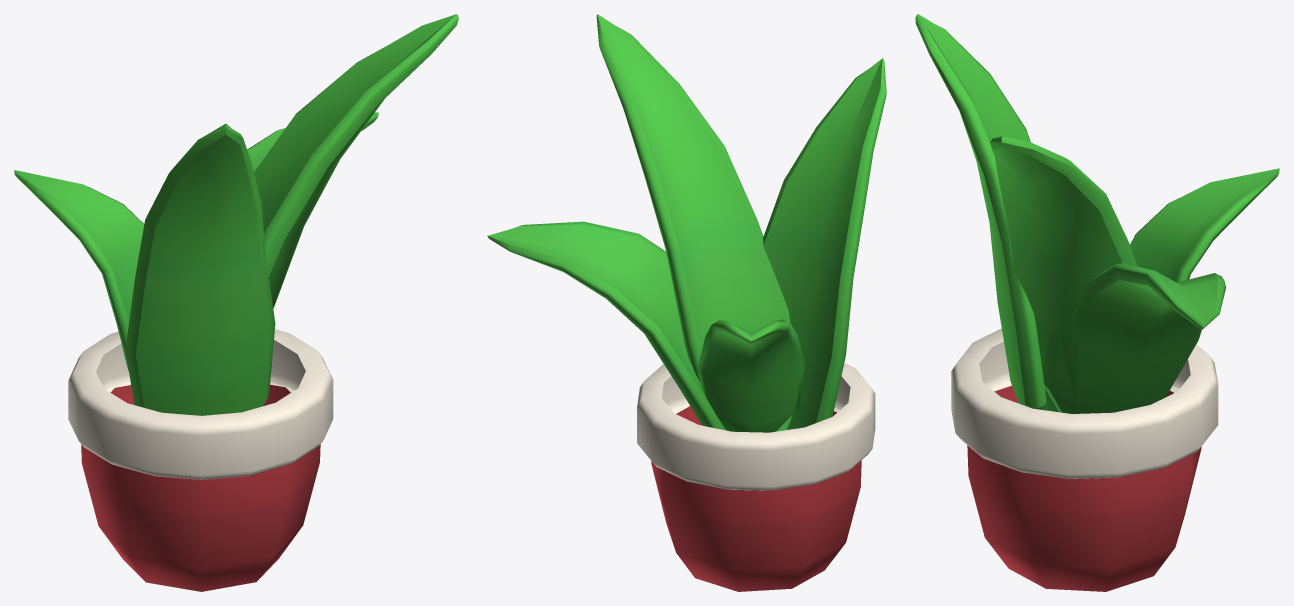
File: Plants (2).fbx
3 views of the same model, side by side, from view 1: azimuth 30°, elevation 25°; view 2: azimuth 150°, elevation 25°; view 3: azimuth 270°, elevation 25° (orthographic). The views are drawn at different scales.
Visible parts, largest first — view 1: Plants (2), Pot_02_Leaf_10, Pot_02_Leaf_09, Pot_02_Leaf_02, Pot_02_Leaf_08; view 2: Plants (2), Pot_02_Leaf_09, Pot_02_Leaf_10, Pot_02_Leaf_08, Pot_02_Leaf_02; view 3: Plants (2), Pot_02_Leaf_08, Pot_02_Leaf_09, Pot_02_Leaf_10, Pot_02_Leaf_02.
Boxes of the visible parts, bbox=[...] form: Plants (2): bbox=[68, 329, 333, 591]; Pot_02_Leaf_10: bbox=[125, 123, 275, 415]; Pot_02_Leaf_09: bbox=[254, 14, 458, 308]; Pot_02_Leaf_02: bbox=[14, 170, 144, 370]; Pot_02_Leaf_08: bbox=[247, 112, 378, 171]; Plants (2): bbox=[637, 363, 875, 591]; Pot_02_Leaf_09: bbox=[596, 14, 795, 431]; Pot_02_Leaf_10: bbox=[763, 58, 886, 429]; Pot_02_Leaf_08: bbox=[487, 221, 726, 430]; Pot_02_Leaf_02: bbox=[698, 319, 805, 432]; Plants (2): bbox=[951, 328, 1218, 591]; Pot_02_Leaf_08: bbox=[1042, 263, 1225, 413]; Pot_02_Leaf_09: bbox=[990, 136, 1137, 413]; Pot_02_Leaf_10: bbox=[915, 14, 1048, 410]; Pot_02_Leaf_02: bbox=[1130, 168, 1279, 282].
Bounding box in the file's own units: 100 × 145 × 88.83.
Materials: 1 (1 with a texture image).
